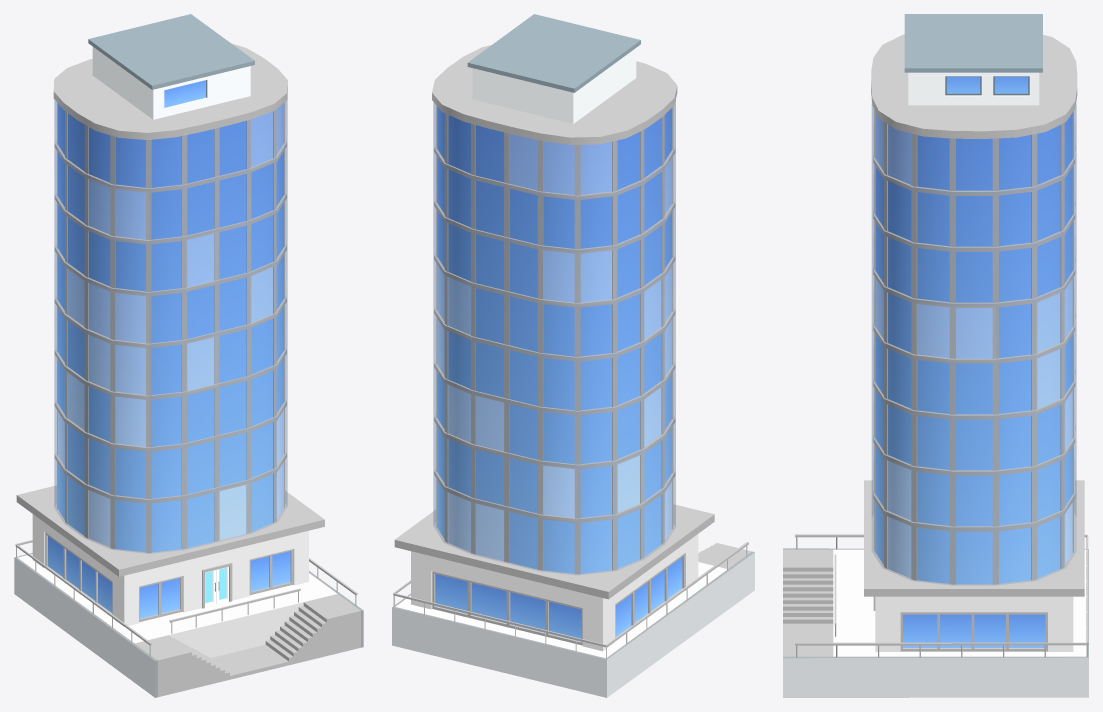
Rendered from city2-building-business-07.glb.
3 renders of one model, left to right at view 1: azimuth 30°, elevation 25°; view 2: azimuth 150°, elevation 25°; view 3: azimuth 270°, elevation 25°, orthographic. The views are drawn at different scales.
Visible parts, largest first — view 1: Building_Business_07; view 2: Building_Business_07; view 3: Building_Business_07.
Part boxes in pixels (left/top/right/bottom): Building_Business_07: left=14, top=14, right=363, bottom=697; Building_Business_07: left=392, top=14, right=754, bottom=697; Building_Business_07: left=783, top=14, right=1088, bottom=697.
Size of the model in its own units: 13.21 by 33.81 by 15.56.
Materials: 2 (2 with a texture image).
